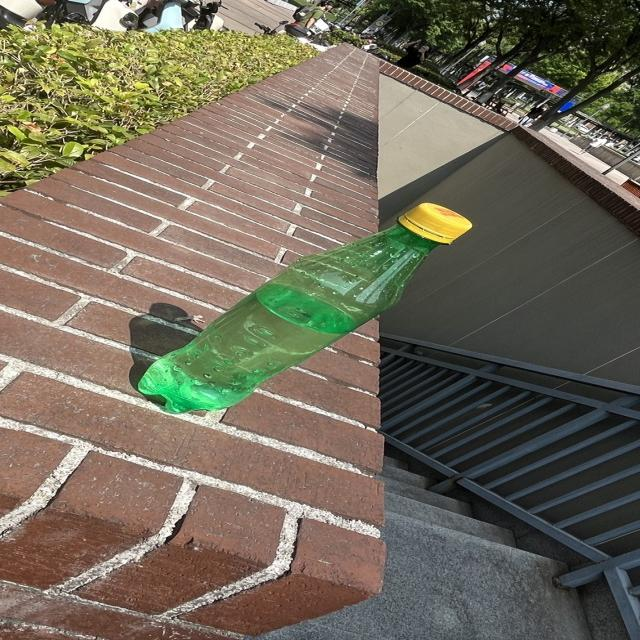medium: (139, 203, 471, 413)
